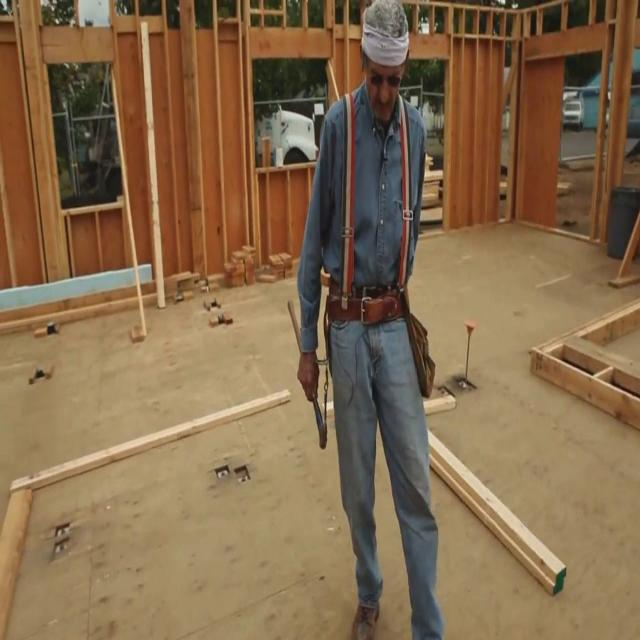hammer: (288, 299, 326, 450)
